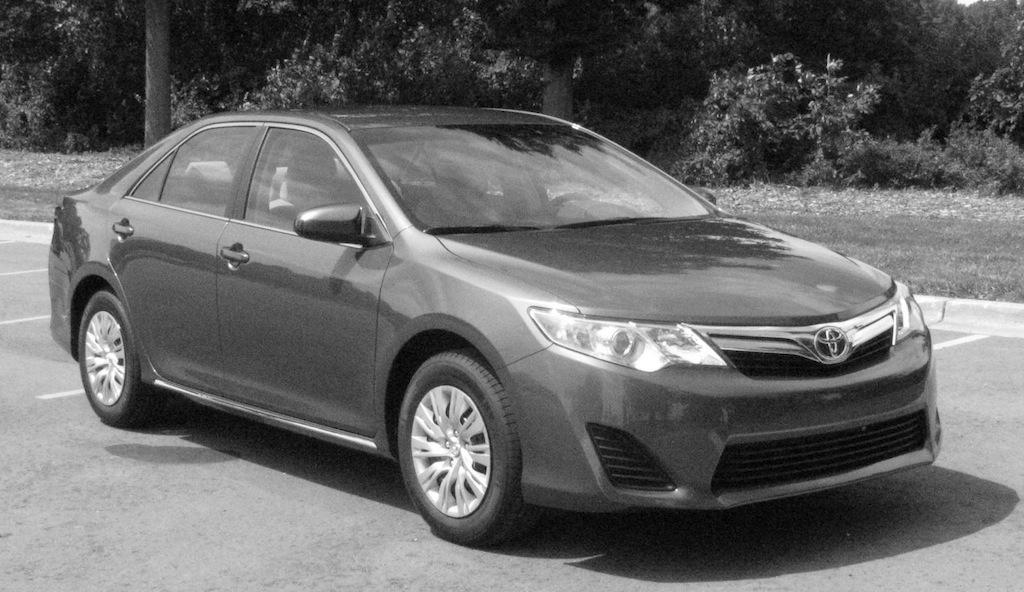car: (45, 103, 948, 554)
